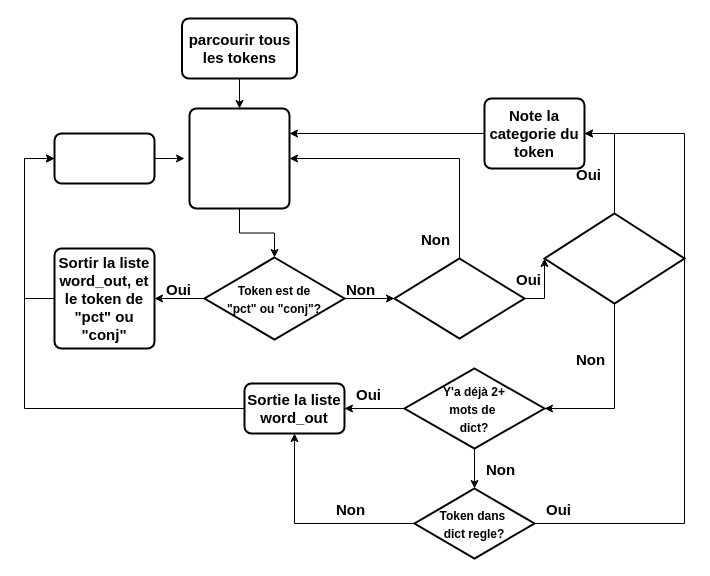
Some shapes in this 710 by 576 pixel diagram are drawn without their labels. Here are the shapes that lost their labels. From the top down, the box of each, then its label:
(53, 132, 155, 184): Vider la liste
(188, 107, 290, 209): Append un nouvel token dans la liste word_out
(543, 212, 685, 304): C'est le premier token dans word_out?
(393, 257, 525, 339): Token dans dict category?
